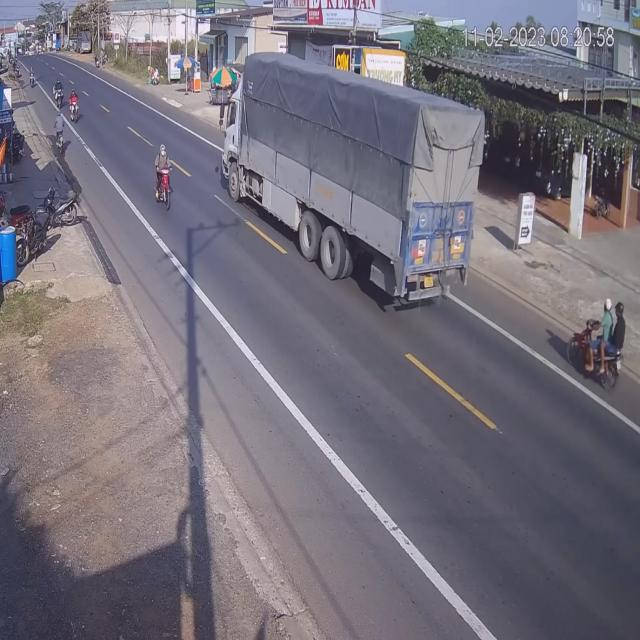motorbike: (564, 300, 624, 391), (152, 143, 174, 210), (68, 86, 80, 123), (55, 75, 66, 111)
truck: (221, 58, 477, 300)
